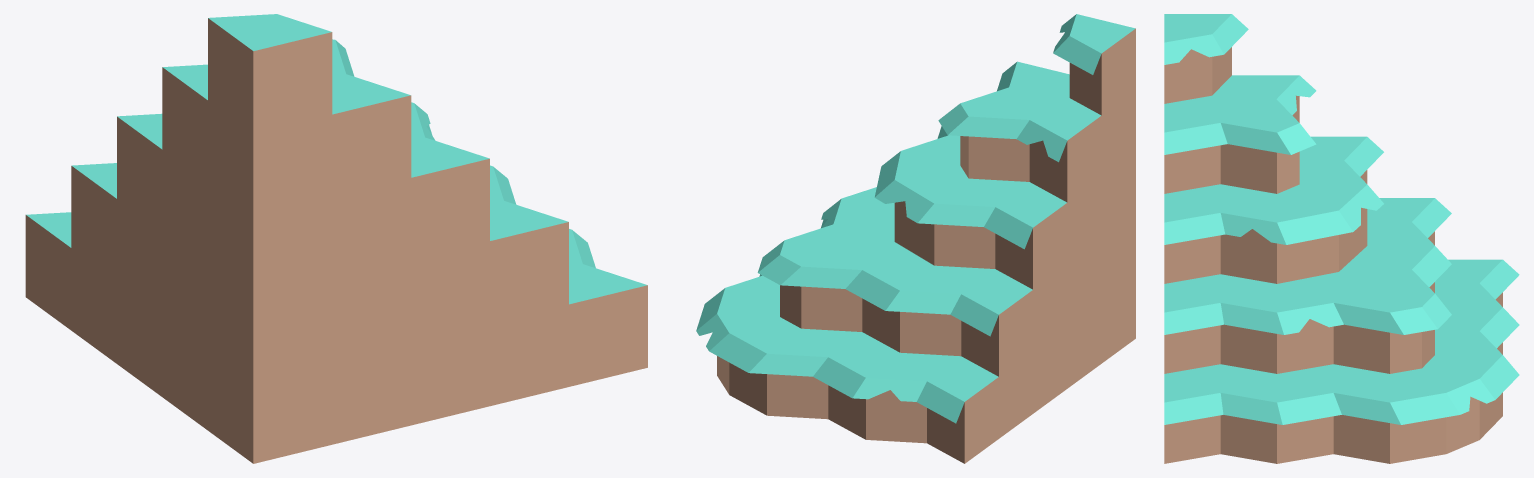
File: cliff_stepsCorner_rock.glb
3 views of the same model, side by side, from view 1: azimuth 30°, elevation 25°; view 2: azimuth 150°, elevation 25°; view 3: azimuth 270°, elevation 25° (orthographic). The views are drawn at different scales.
Parts seen in each view (by area): view 1: cliff_stepsCorner_rock; view 2: cliff_stepsCorner_rock; view 3: cliff_stepsCorner_rock.
Boxes of the visible parts, x1,y1,x2,y2 form: cliff_stepsCorner_rock: (25,14,647,463); cliff_stepsCorner_rock: (696,14,1135,463); cliff_stepsCorner_rock: (1164,14,1519,463).
Size of the model in its own units: 1.05 by 1 by 1.05.
